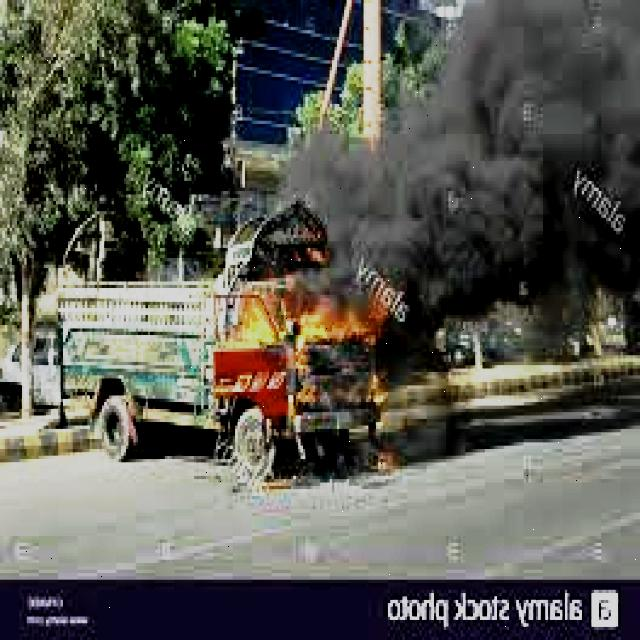api: (215, 256, 401, 366)
